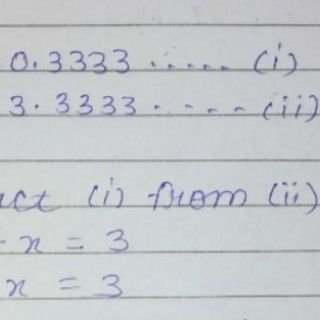.: (32, 56, 40, 69)
0: (8, 48, 28, 71)
3: (102, 226, 130, 253), (45, 47, 64, 74)
